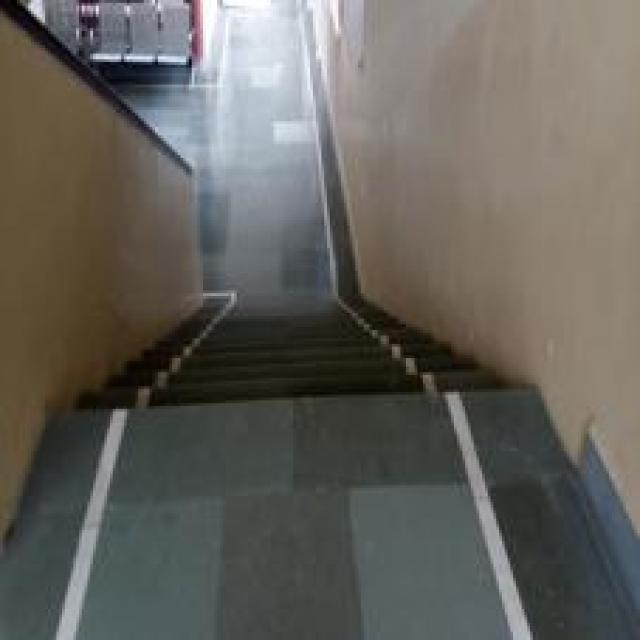stair: (54, 302, 510, 434)
